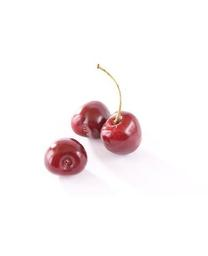cherry: (100, 112, 142, 156), (43, 138, 88, 175), (71, 100, 110, 139)
